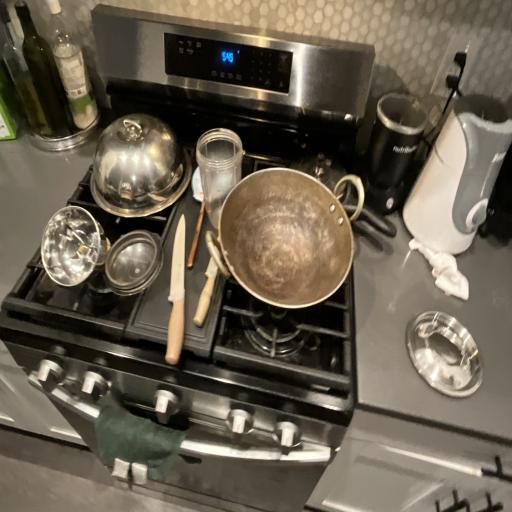Pan: (222, 157, 366, 310)
Stove: (10, 32, 387, 452)
knife: (164, 202, 194, 384), (191, 230, 227, 328)
